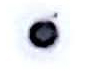cancer: (16, 4, 77, 67)
